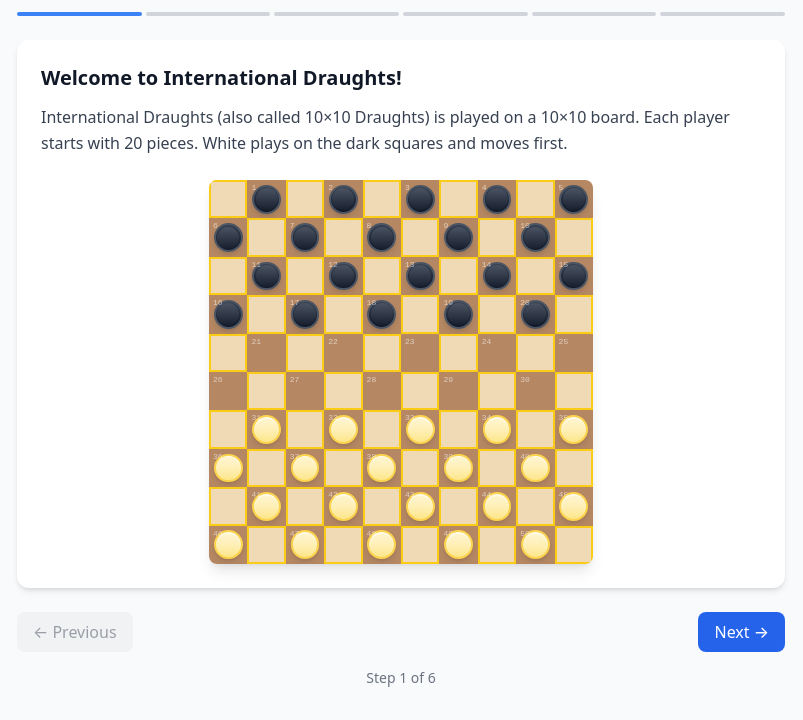
Test case: TutorialPage › shows Start Playing on last step
(page scrolled)
Click the button "Next →" at (742, 632), box [698,612,785,652]
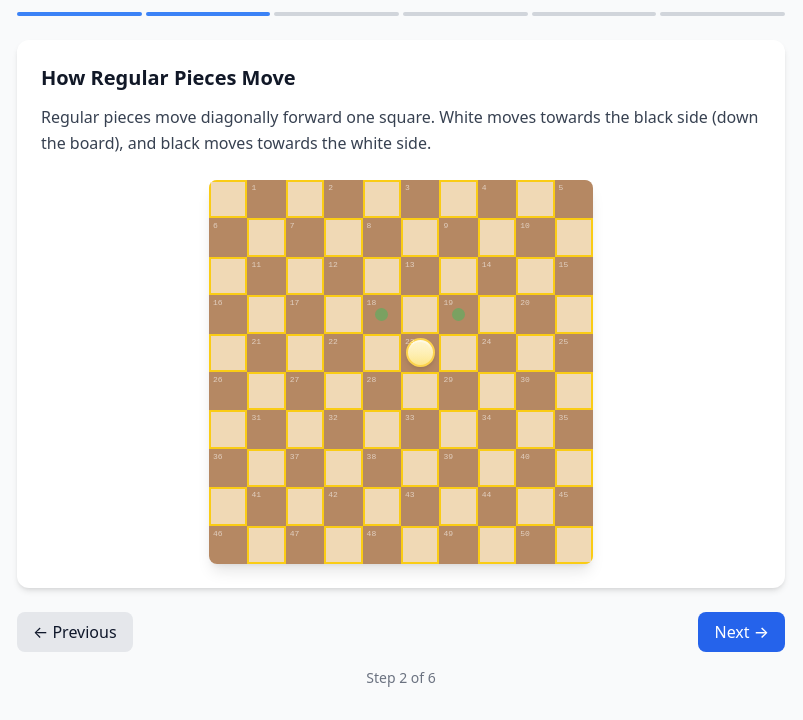
Click the button "Next →" at (742, 632), box [698,612,785,652]
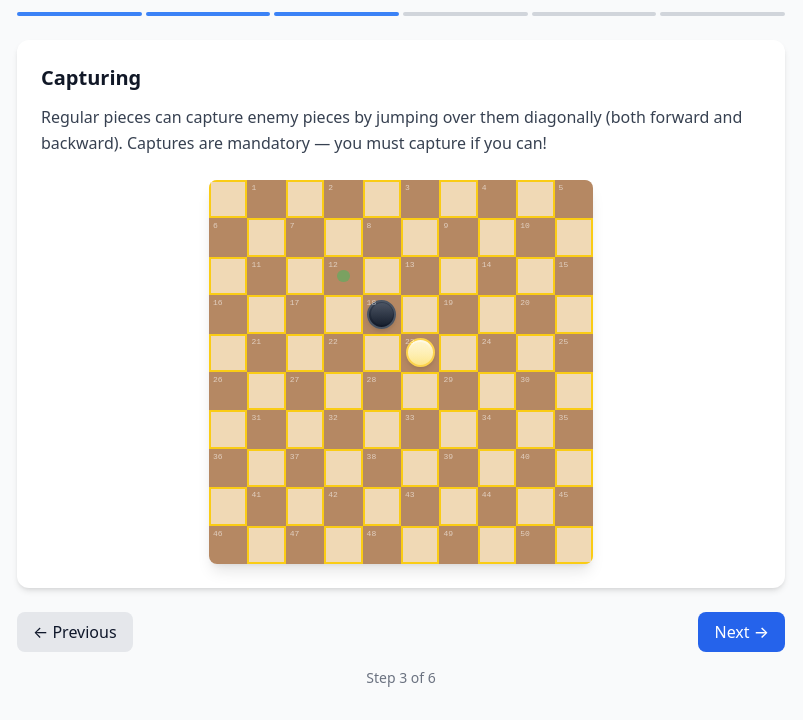
Click the button "Next →" at (742, 632), box [698,612,785,652]
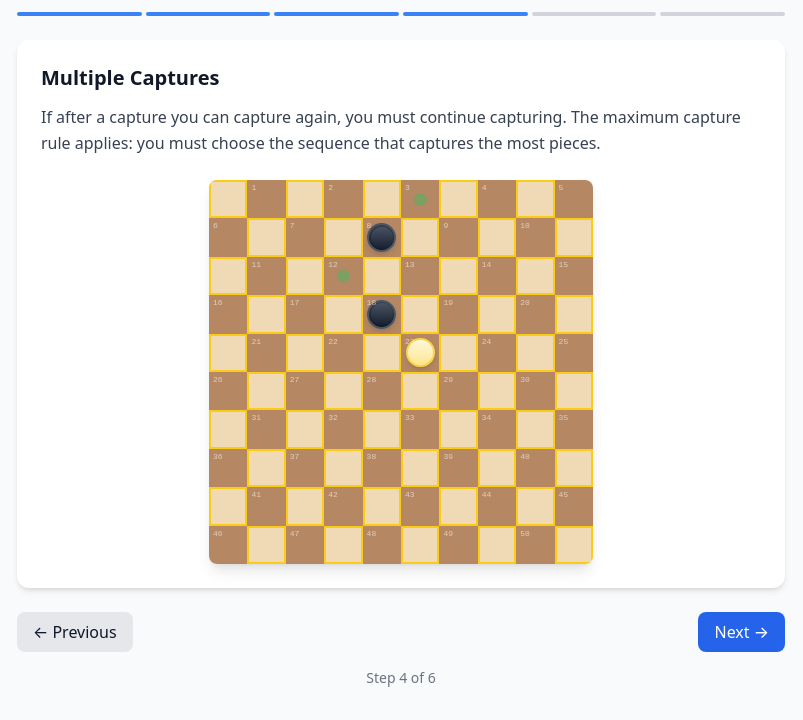
Click the button "Next →" at (742, 632), box [698,612,785,652]
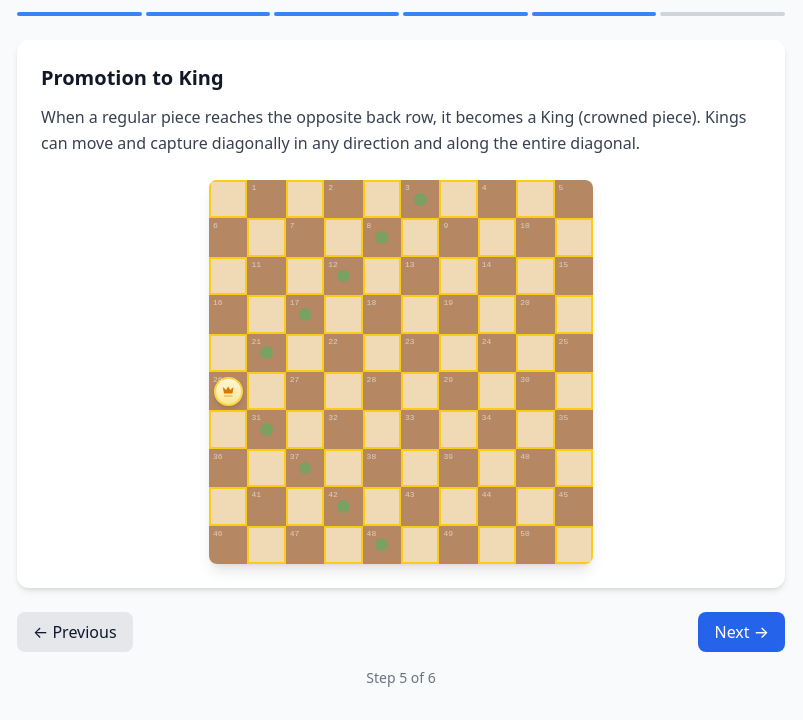
Click the button "Next →" at (742, 632), box [698,612,785,652]
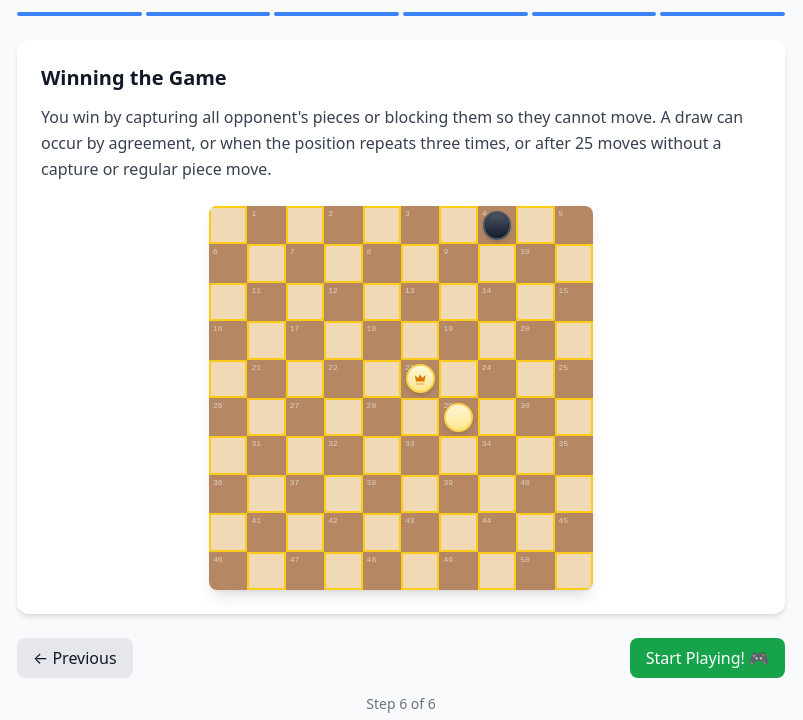
Check: the link "Start Playing! 🎮" is shown, box [630,638,785,678]
